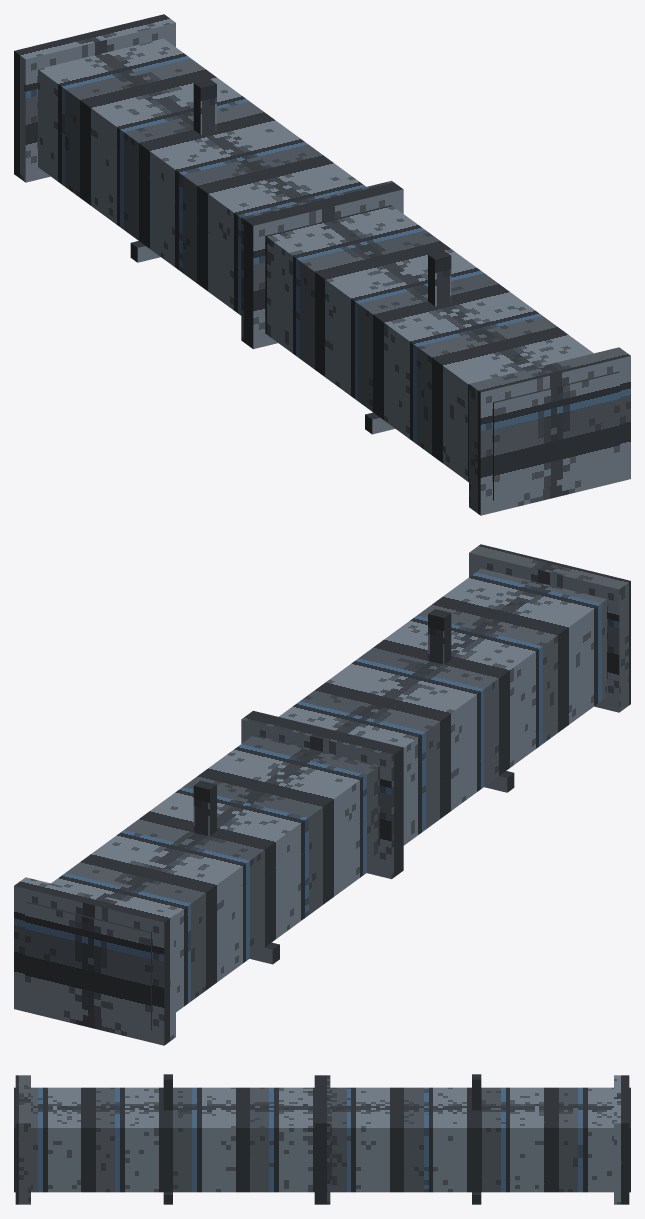
File: arch_duct.glb
The picture shows the model from 3 angles, top to bottom: view 1: azimuth 30°, elevation 25°; view 2: azimuth 150°, elevation 25°; view 3: azimuth 270°, elevation 25°; orthographic projection. The views are drawn at different scales.
Parts seen in each view (by area): view 1: arch_duct; view 2: arch_duct; view 3: arch_duct.
Boxes of the visible parts, x1,y1,x2,y2 form: arch_duct: [14, 14, 630, 515]; arch_duct: [14, 544, 630, 1045]; arch_duct: [14, 1074, 630, 1204].
Size of the model in its own units: 0.74 by 0.75 by 4.
Materials: 1 (1 with a texture image).
